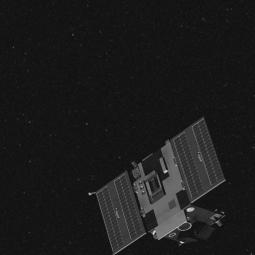proba_2: (92, 111, 226, 255)
